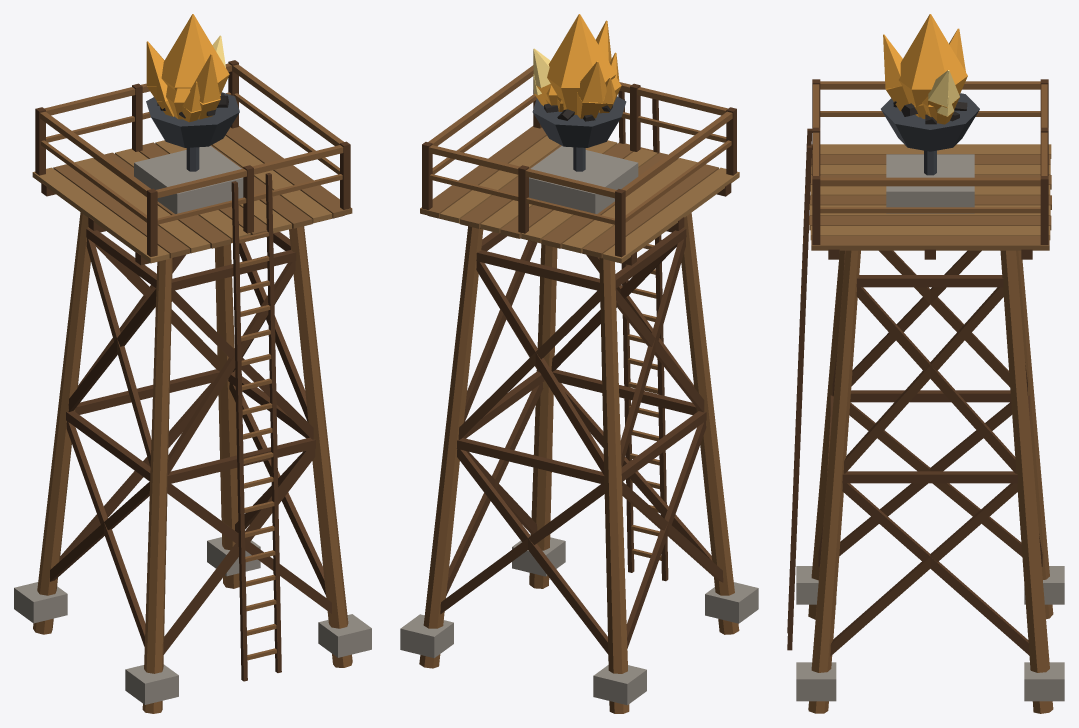
Rendered from beacon.glb.
3 renders of one model, left to right at view 1: azimuth 30°, elevation 25°; view 2: azimuth 150°, elevation 25°; view 3: azimuth 270°, elevation 25°, orthographic. The views are drawn at different scales.
Visible parts, largest first — view 1: dock_beacon; view 2: dock_beacon; view 3: dock_beacon.
Boxes of the visible parts, x1=… form: dock_beacon: x1=14, y1=14, x2=371, y2=713; dock_beacon: x1=400, y1=14, x2=758, y2=713; dock_beacon: x1=787, y1=14, x2=1064, y2=713.
Size of the model in its own units: 3.34 by 8.91 by 3.45.
